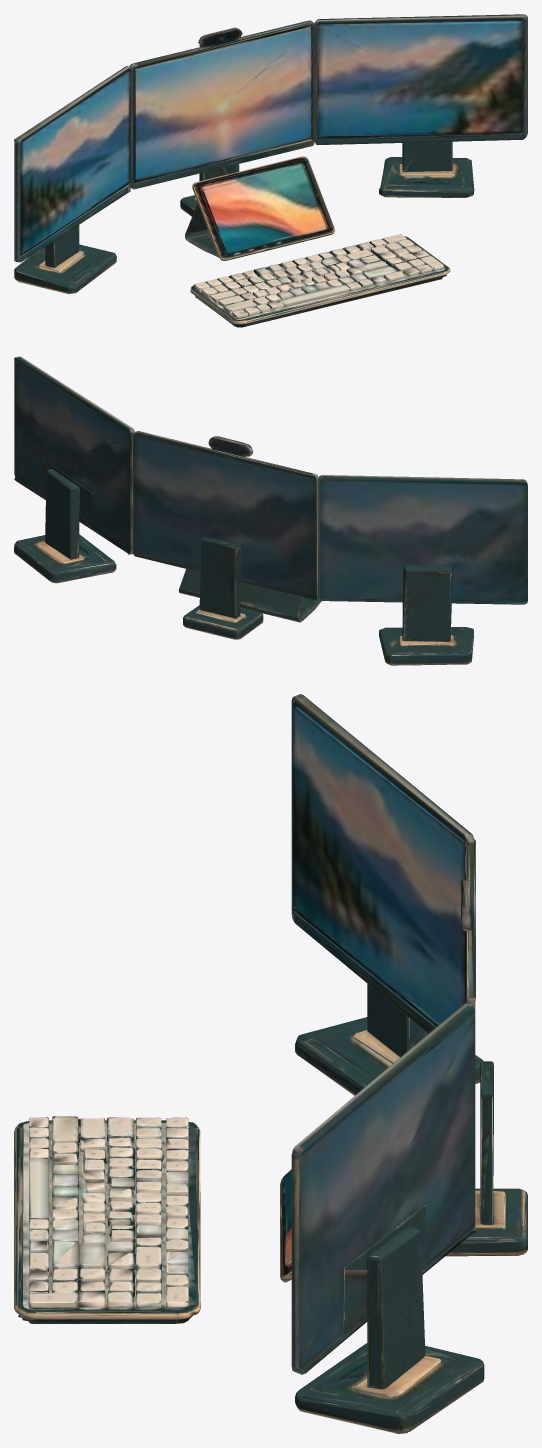
File: computer_triple.glb
3 renders of one model, top to bottom at view 1: azimuth 30°, elevation 25°; view 2: azimuth 150°, elevation 25°; view 3: azimuth 270°, elevation 25°, orthographic. The views are drawn at different scales.
Visible parts, largest first — view 1: prop; view 2: prop; view 3: prop.
Part boxes in pixels (x1=…): prop: x1=14, y1=14, x2=527, y2=327; prop: x1=14, y1=356, x2=527, y2=665; prop: x1=14, y1=694, x2=527, y2=1433.
Size of the model in its own units: 1.35 by 0.4633 by 0.6381.
Materials: 1 (1 with a texture image).
